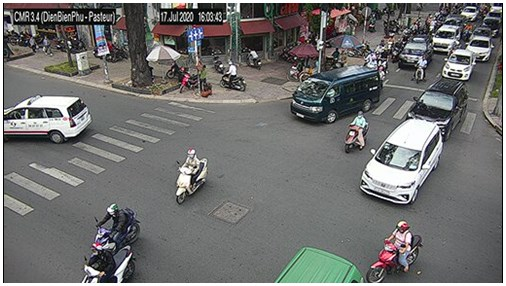xe_hoi: (359, 118, 443, 205), (406, 78, 469, 140), (442, 48, 476, 79), (432, 23, 461, 53), (466, 35, 494, 62), (484, 18, 499, 35), (461, 6, 479, 20), (472, 25, 492, 37)
xe_khach: (291, 66, 381, 123)
xe_may: (366, 219, 423, 284), (81, 243, 135, 284), (93, 203, 141, 247), (175, 148, 208, 204), (345, 110, 369, 153), (219, 61, 247, 93), (413, 54, 427, 83), (377, 60, 387, 84), (392, 38, 401, 63), (365, 51, 375, 71), (464, 22, 472, 42), (429, 17, 436, 33)
xe_taxi: (4, 95, 92, 143)
